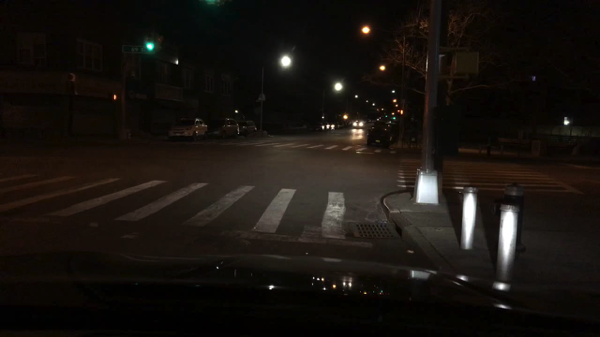car: (164, 117, 209, 142), (207, 118, 239, 140), (367, 127, 393, 147), (236, 119, 258, 137), (351, 118, 364, 130), (312, 123, 325, 132), (325, 122, 335, 131), (377, 123, 391, 129), (334, 123, 342, 132), (383, 119, 395, 125), (342, 122, 349, 130)
traffic light: (453, 54, 481, 74), (423, 54, 445, 74), (145, 31, 151, 52), (156, 32, 162, 51), (110, 92, 119, 102)
traffic sign: (125, 45, 153, 54)
